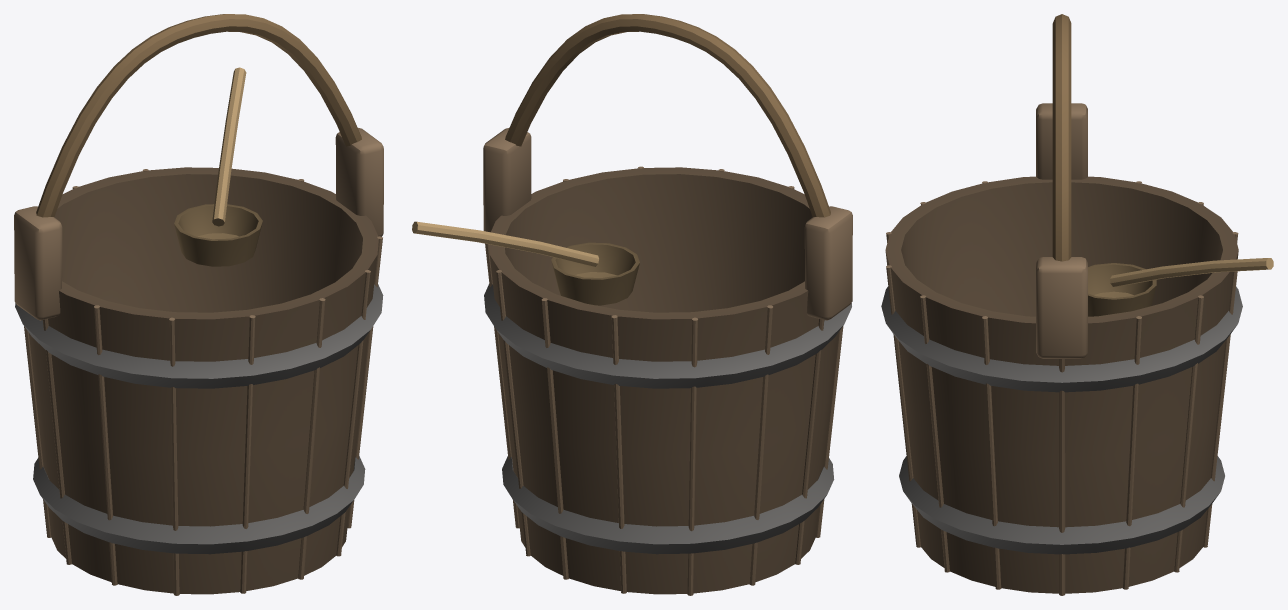
The model's file is obj_kit_bucket.glb.
3 renders of one model, left to right at view 1: azimuth 30°, elevation 25°; view 2: azimuth 150°, elevation 25°; view 3: azimuth 270°, elevation 25°, orthographic. The views are drawn at different scales.
Parts seen in each view (by area): view 1: b, Torus.001, Torus, rope, Cube, ladle, Cube.001, lh, st.008, st.010, st.011, st.009 (+4 smaller); view 2: b, Torus.001, Torus, rope, Cube, ladle, Cube.001, lh, st.005, st.004, st.003, st.006 (+4 smaller); view 3: b, Torus.001, Torus, Cube.001, rope, ladle, Cube, lh, st.013, st.001, st.002, st.012 (+3 smaller).
Part boxes in pixels (x1,y1,x2,y2): b: (29,167,378,594); Torus.001: (15,284,383,388); Torus: (33,456,365,554); rope: (36,14,361,217); Cube: (14,206,62,320); ladle: (174,204,262,266); Cube.001: (335,128,383,236); lh: (212,67,246,226); st.008: (94,305,117,585); st.010: (240,315,255,593); st.011: (298,298,325,579); st.009: (169,317,179,595); b: (489,167,838,594); Torus.001: (484,284,851,388); Torus: (502,456,834,554); rope: (505,14,830,217); Cube: (804,206,852,320); ladle: (551,242,639,305); Cube.001: (483,127,531,232); lh: (412,221,598,266); st.005: (687,317,697,595); st.004: (611,315,626,593); st.003: (541,298,568,579); st.006: (749,305,772,585); b: (885,176,1238,593); Torus.001: (881,286,1242,392); Torus: (899,456,1224,554); Cube.001: (1036,257,1087,358); rope: (1052,14,1071,261); ladle: (1088,263,1156,316); Cube: (1036,103,1087,179); lh: (1110,258,1273,286); st.013: (982,316,1001,589); st.001: (1123,316,1141,589); st.002: (1174,295,1203,572); st.012: (920,295,949,572).
Bounding box in the file's own units: 0.38 × 0.5341 × 0.3776.
